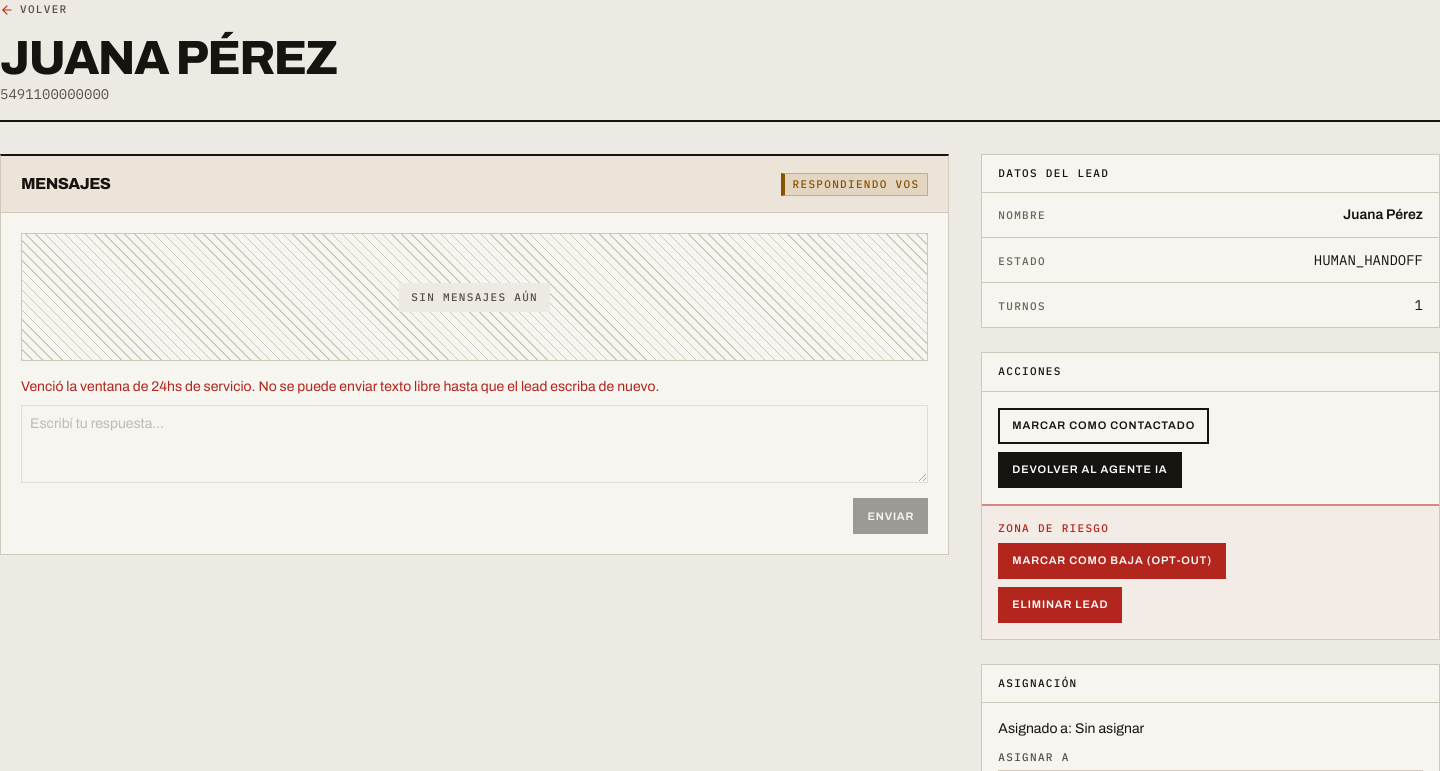
LeadDetailPage › integración: liberar handoff dispara el refetch y oculta el botón cuando el estado ya cambió (AC-15)
Click the button with test id "release-handoff-button".
click(1090, 470)  # box [998, 452, 1182, 488]
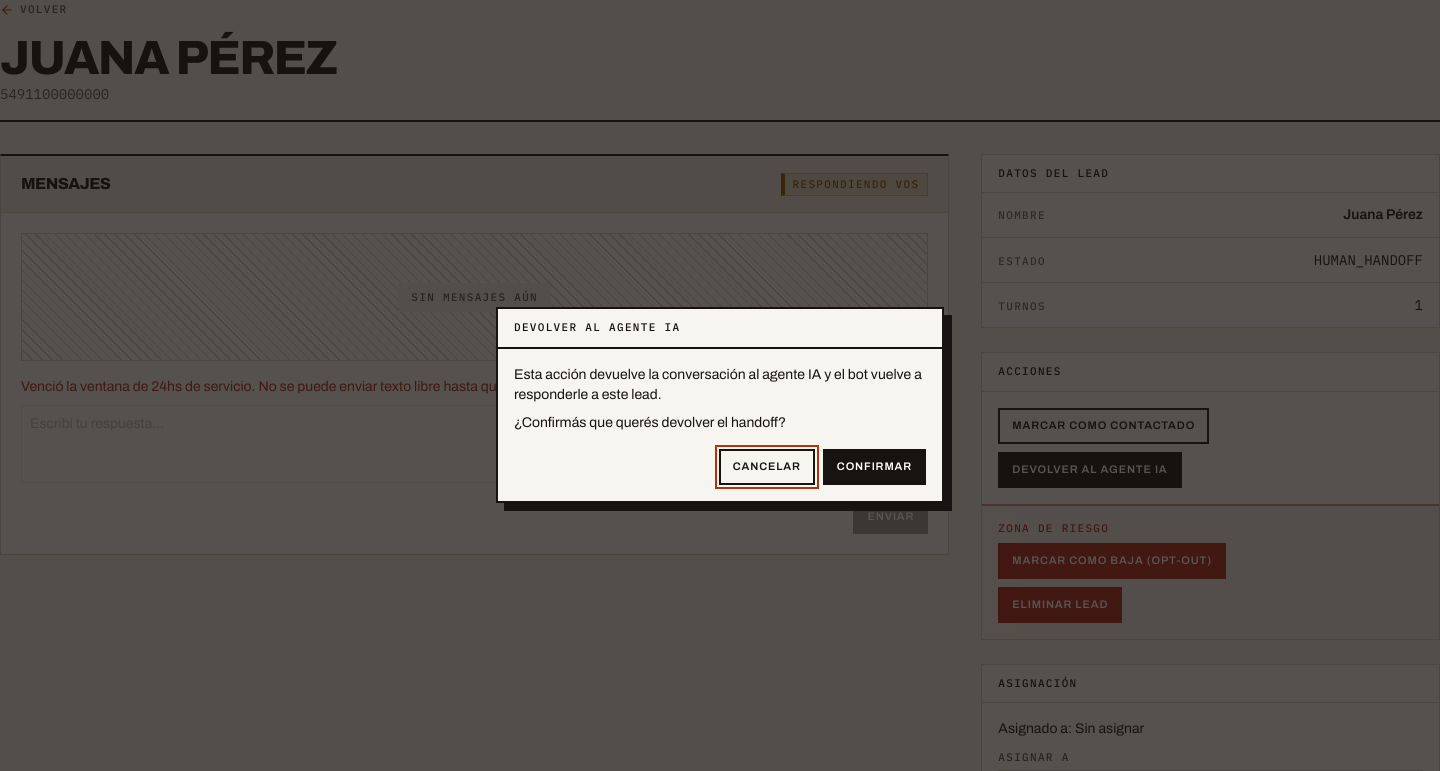
Result: the dialog with test id "release-handoff-modal" is shown at [496, 307, 944, 503]
Click the button with test id "release-handoff-confirm".
click(874, 467)  # box [823, 449, 926, 485]
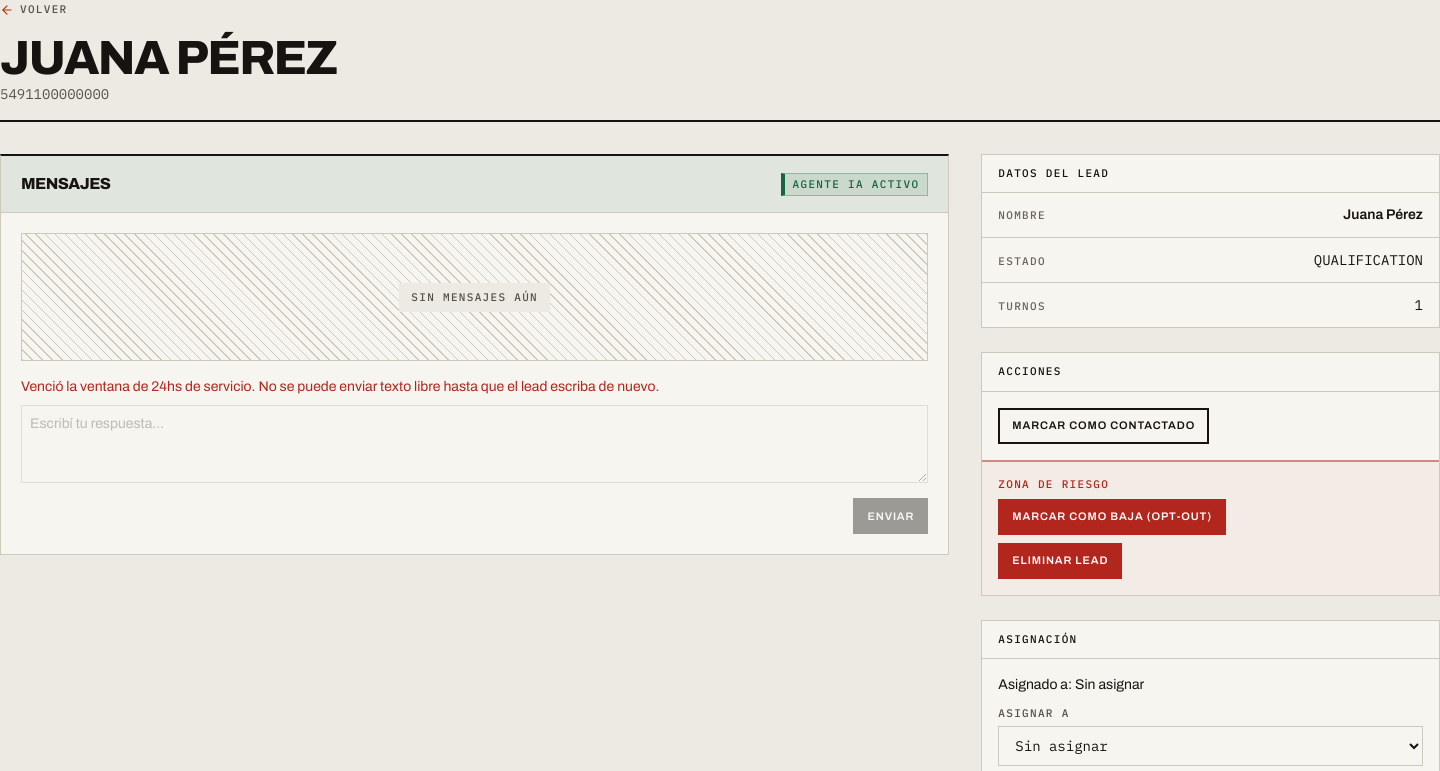
Result: the button with test id "release-handoff-button" is gone
